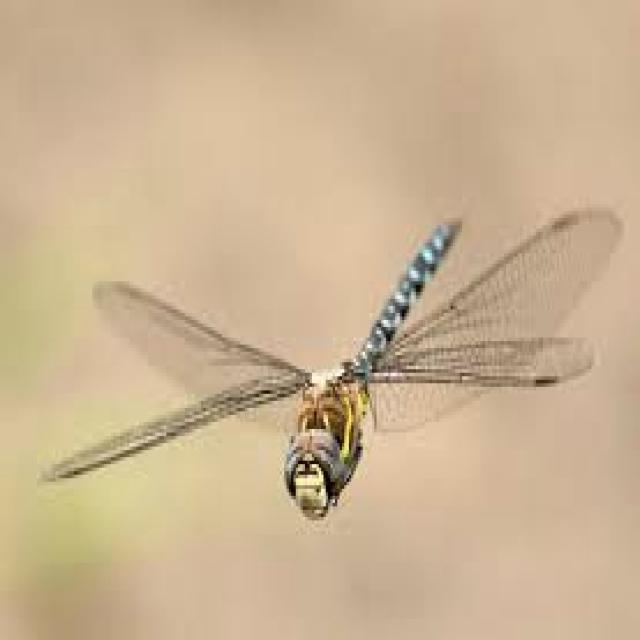dragonfly: (42, 211, 619, 513)
